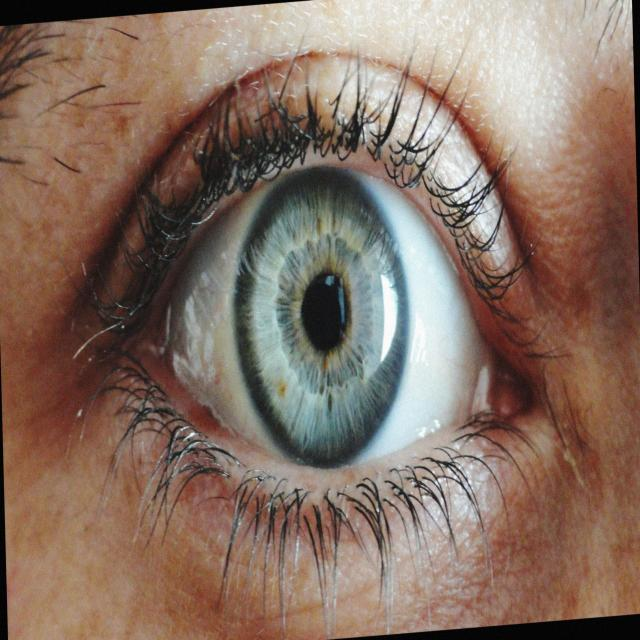Healthy-Eye: (122, 96, 527, 554)
